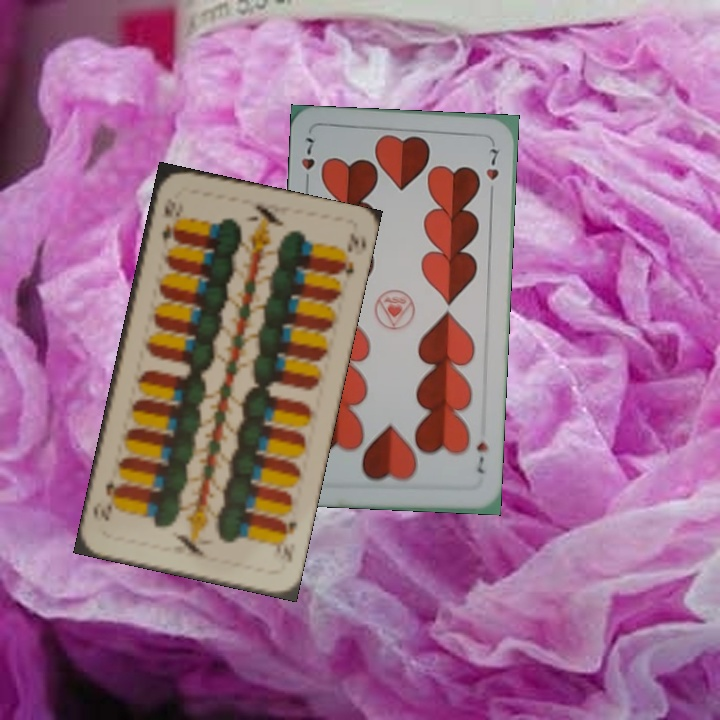E10: (275, 516, 300, 566), (158, 201, 178, 251)
H7: (297, 132, 317, 189), (472, 438, 490, 476)
